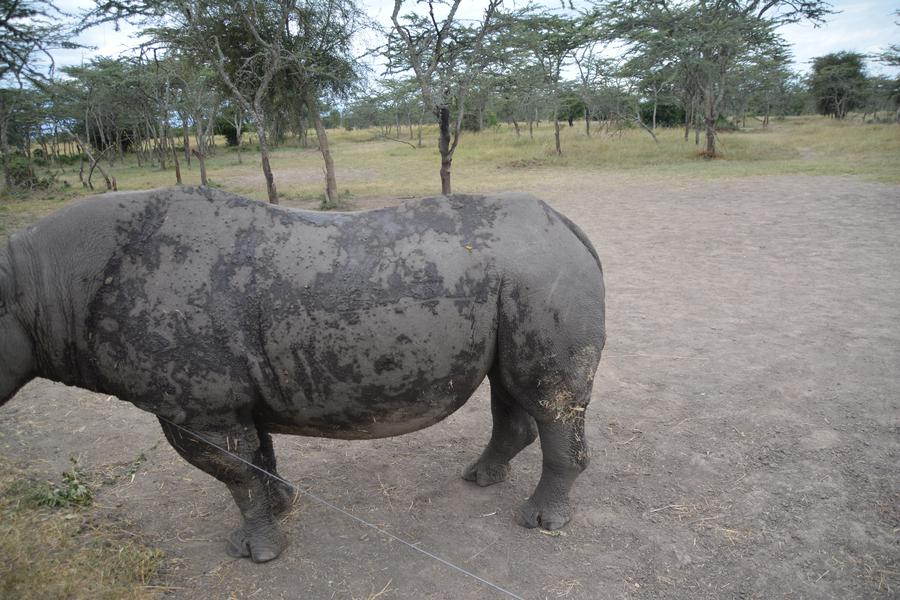rhino: (32, 194, 583, 487)
